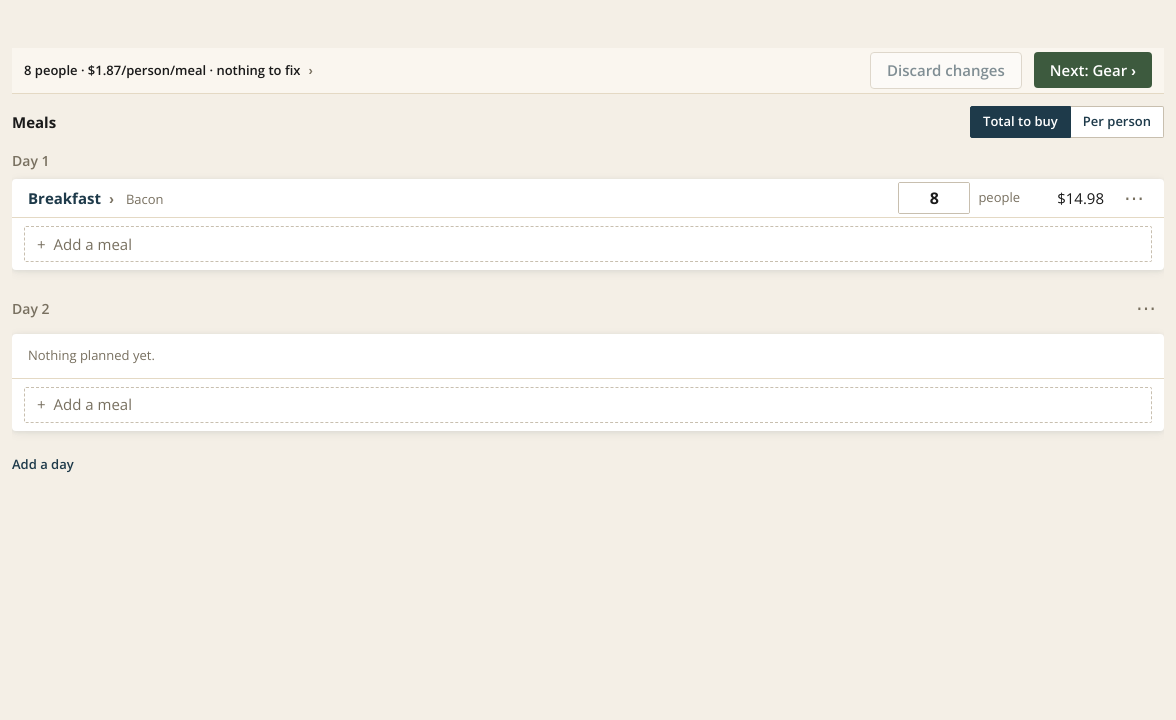
Test: PlanTab › AddAMeal_CreatesTheMealOpenInline
Click the button "+ Add a meal" below "Nothing planned yet.": (93, 404) left=24, top=386, right=1152, bottom=422
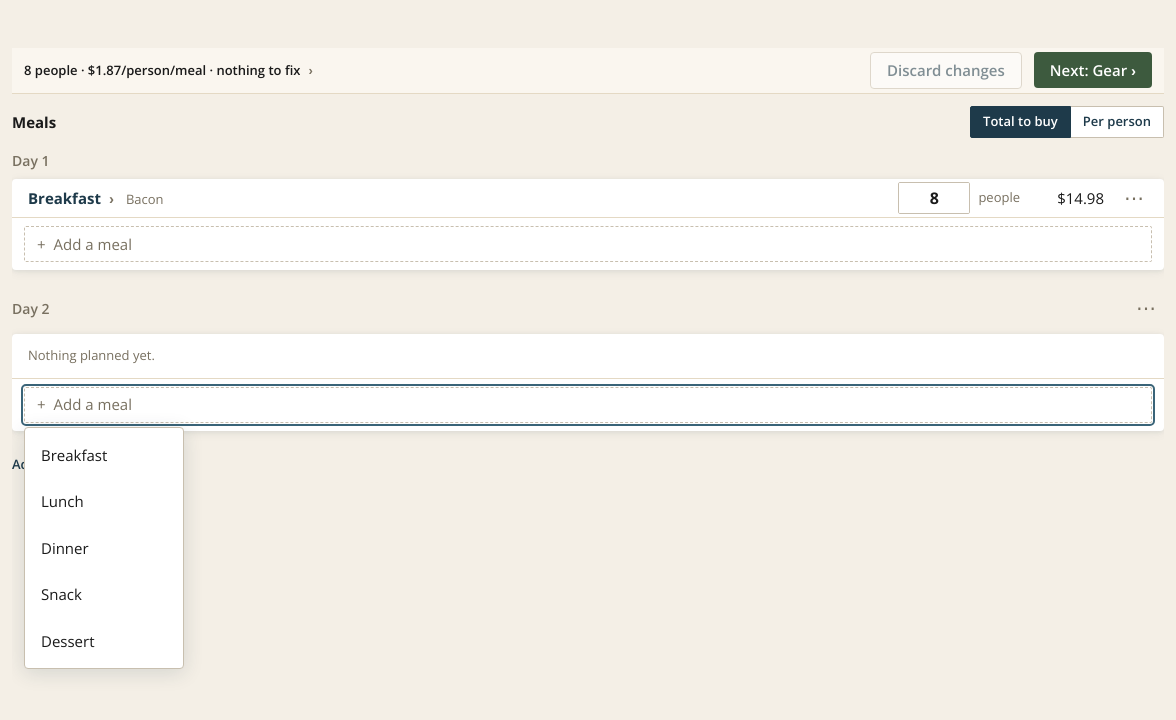
Click the button "Lunch": (104, 501) left=25, top=478, right=183, bottom=524
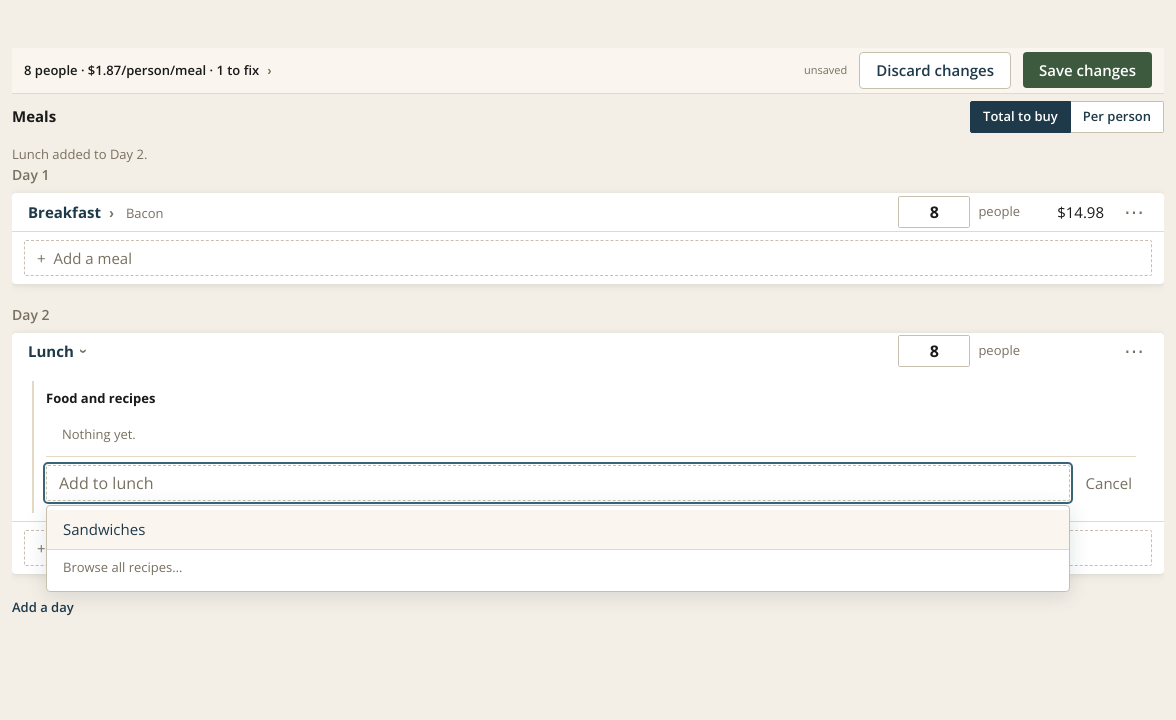
Expected: the list named "Recipes in Day 2 lunch" is shown, left=62, top=425, right=136, bottom=443
